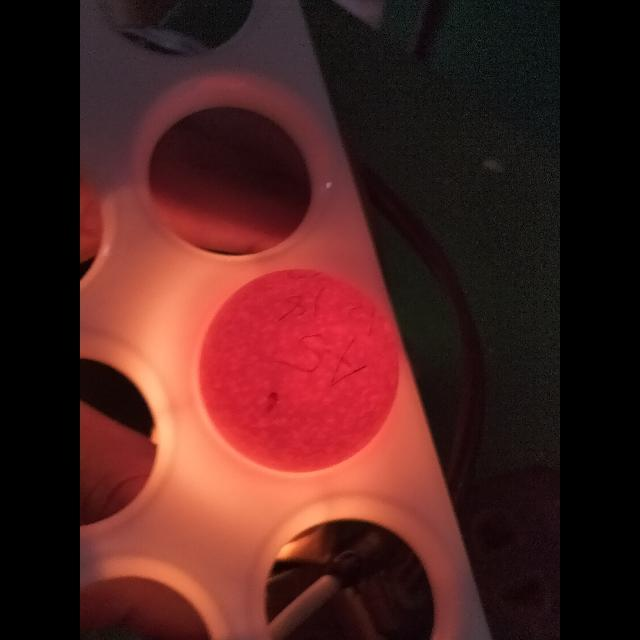Infertile: (202, 265, 400, 473)
